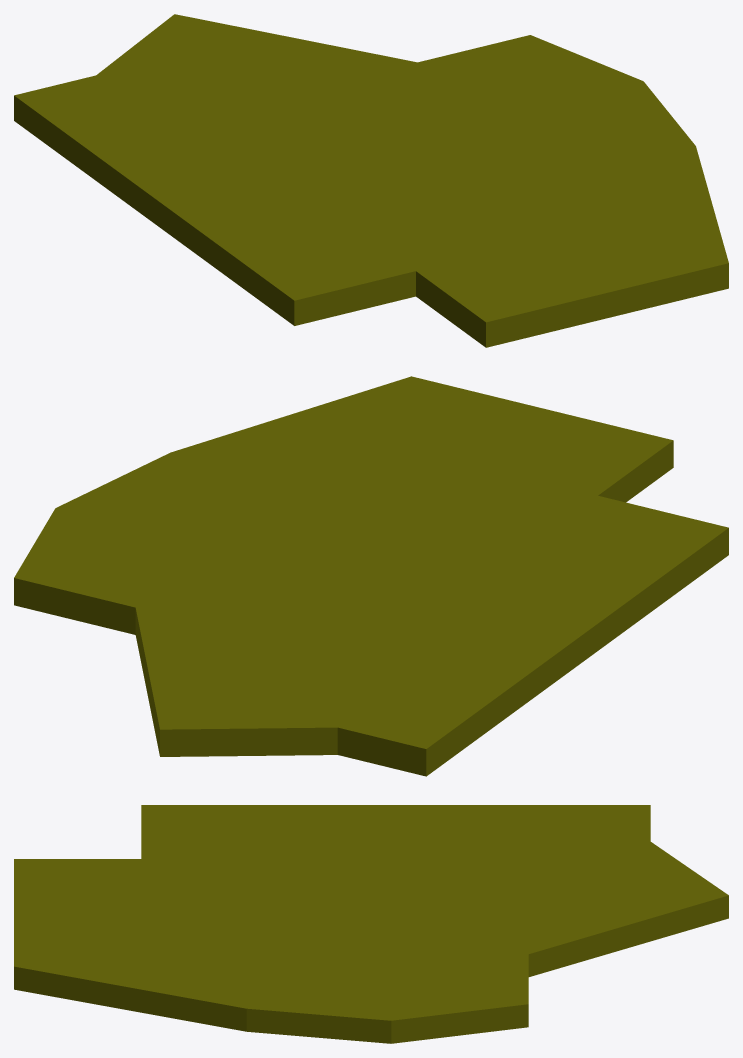
Rendered from x_0_boloto_26_1_rmstrd.fbx.
The picture shows the model from 3 angles, top to bottom: view 1: azimuth 30°, elevation 25°; view 2: azimuth 150°, elevation 25°; view 3: azimuth 270°, elevation 25°; orthographic projection. The views are drawn at different scales.
Parts seen in each view (by area): view 1: x_0_boloto_26_1_rmstrd1; view 2: x_0_boloto_26_1_rmstrd1; view 3: x_0_boloto_26_1_rmstrd1.
Boxes of the visible parts, left/top/right/bottom form: x_0_boloto_26_1_rmstrd1: left=14, top=14, right=728, bottom=347; x_0_boloto_26_1_rmstrd1: left=14, top=376, right=728, bottom=776; x_0_boloto_26_1_rmstrd1: left=14, top=805, right=728, bottom=1043.
Size of the model in its own units: 4.01 by 0.2 by 5.62.
